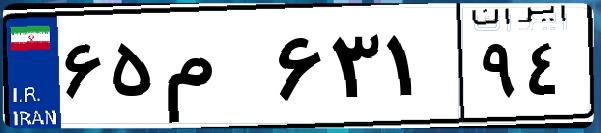1: (385, 28, 445, 110)
3: (330, 28, 385, 110)
4: (525, 38, 570, 115)
5: (110, 28, 158, 98)
6: (270, 28, 330, 110), (57, 26, 110, 100)
9: (475, 38, 525, 113)
م: (158, 20, 270, 120)
